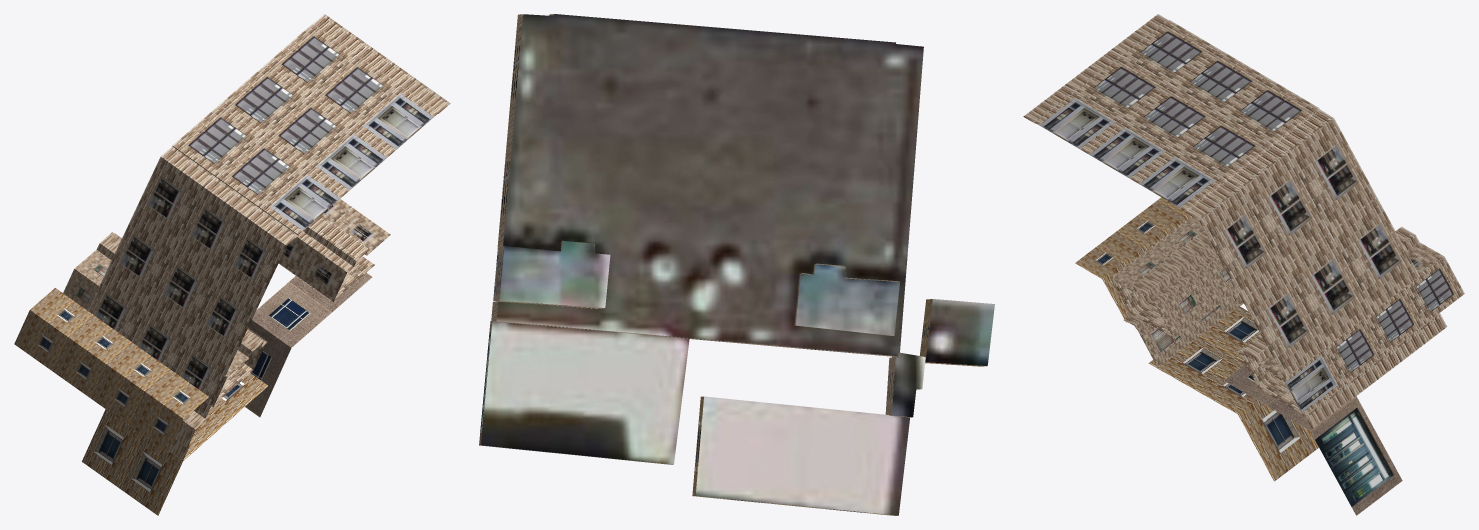
The picture shows the model from 3 angles, left to right: view 1: azimuth 30°, elevation 25°; view 2: azimuth 150°, elevation 25°; view 3: azimuth 270°, elevation 25°; orthographic projection. The views are drawn at different scales.
Size of the model in its own units: 31.77 by 29.51 by 26.89.
Materials: 21 (21 with a texture image).
